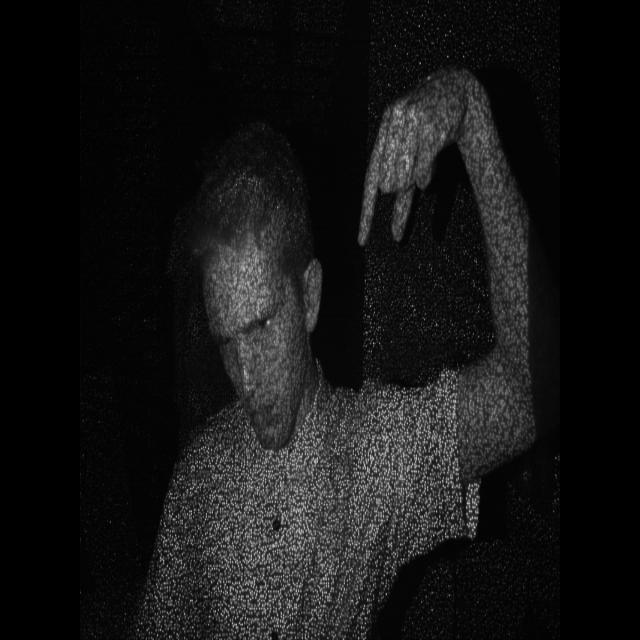Q: (349, 54, 479, 258)
